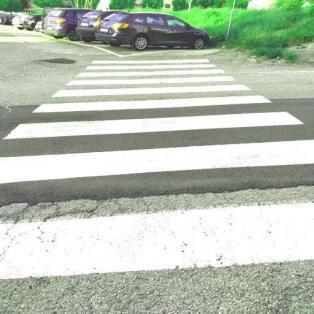Paso de Cebra: (1, 93, 307, 146), (73, 64, 231, 78)
